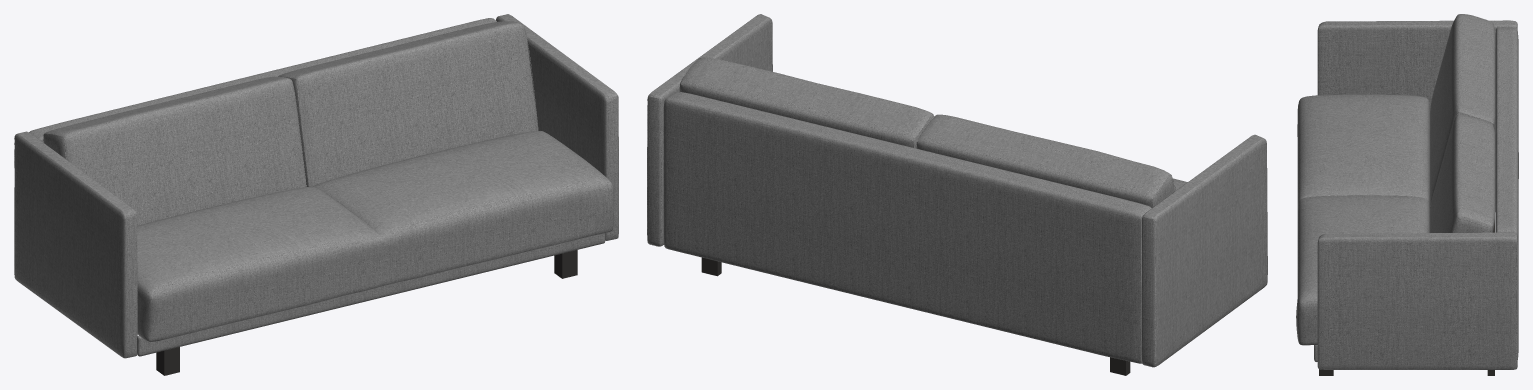
3 renders of one model, left to right at view 1: azimuth 30°, elevation 25°; view 2: azimuth 150°, elevation 25°; view 3: azimuth 270°, elevation 25°, orthographic. The views are drawn at different scales.
Parts seen in each view (by area): view 1: xcm_seat, xcm_back, C-skp2643; view 2: C-skp2643, xcm_back; view 3: C-skp2643, xcm_seat, xcm_back.
Part boxes in pixels (<box>): xcm_seat: <box>137,131,614,375</box>; xcm_back: <box>43,21,538,225</box>; C-skp2643: <box>14,14,618,358</box>; C-skp2643: <box>647,14,1267,375</box>; xcm_back: <box>679,57,1175,207</box>; C-skp2643: <box>1317,20,1518,375</box>; xcm_seat: <box>1296,94,1494,375</box>; xcm_back: <box>1429,14,1495,232</box>.
Size of the model in its own units: 2 by 0.7399 by 0.86.
2 materials, 1 textured.
